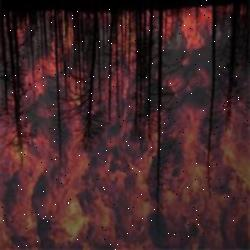fire: (176, 7, 210, 53)
